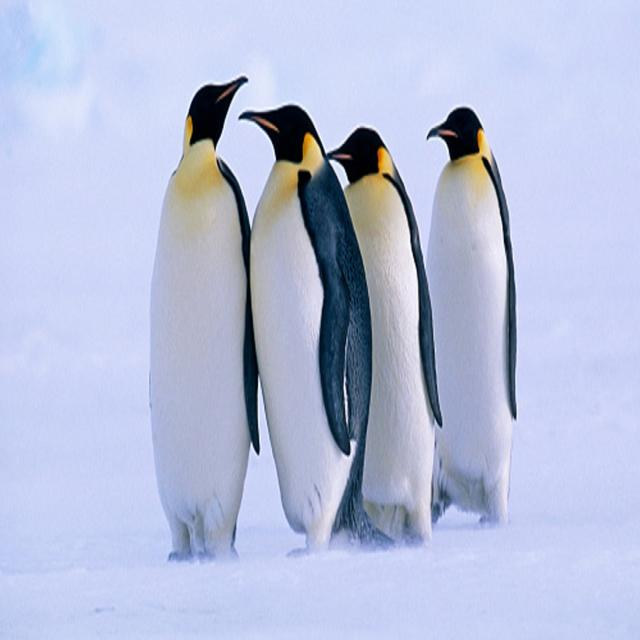penguin: (239, 105, 378, 549), (150, 76, 259, 560), (328, 127, 440, 544), (426, 107, 517, 524)
